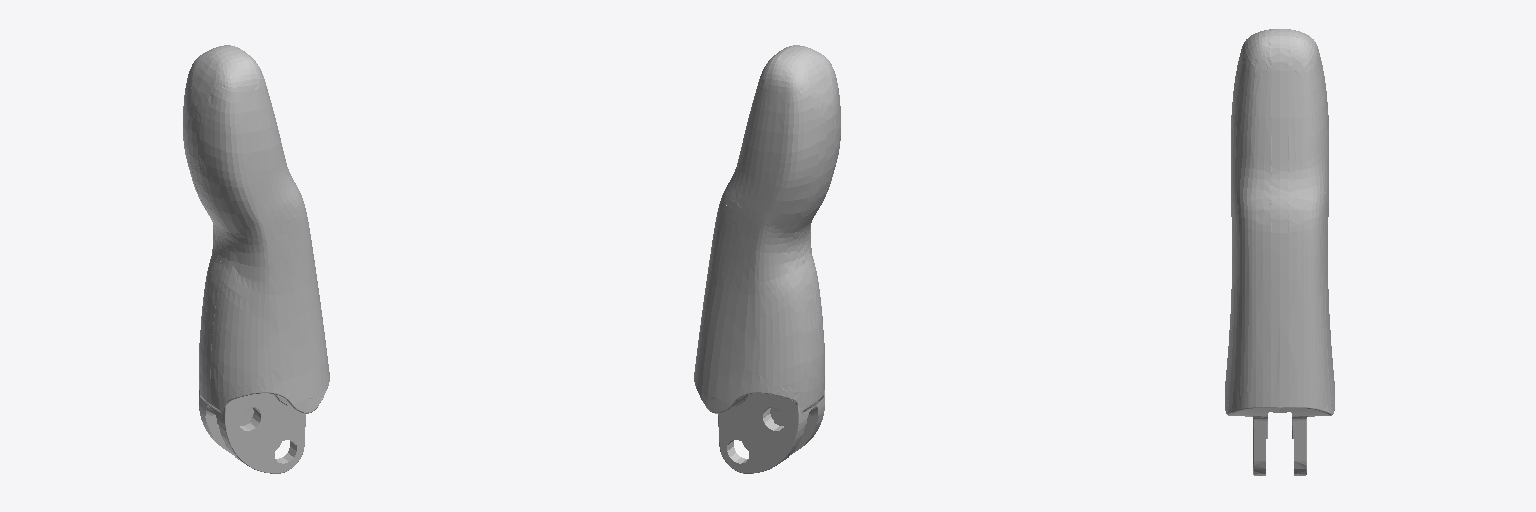
3 renders of one model, left to right at view 1: azimuth 30°, elevation 25°; view 2: azimuth 150°, elevation 25°; view 3: azimuth 270°, elevation 25°, orthographic.
Parts seen in each view (by area): view 1: Link16_R; view 2: Link16_R; view 3: Link16_R.
Part boxes in pixels (left/top/right/bottom): Link16_R: left=183, top=45, right=329, bottom=473; Link16_R: left=694, top=45, right=840, bottom=473; Link16_R: left=1225, top=29, right=1334, bottom=475.
Bounding box in the file's own units: 0.0168 × 0.0531 × 0.0126.